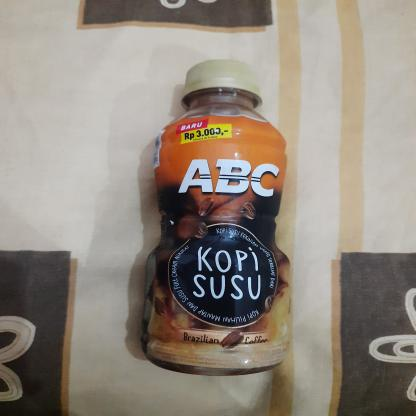plastic: (143, 55, 297, 379)
